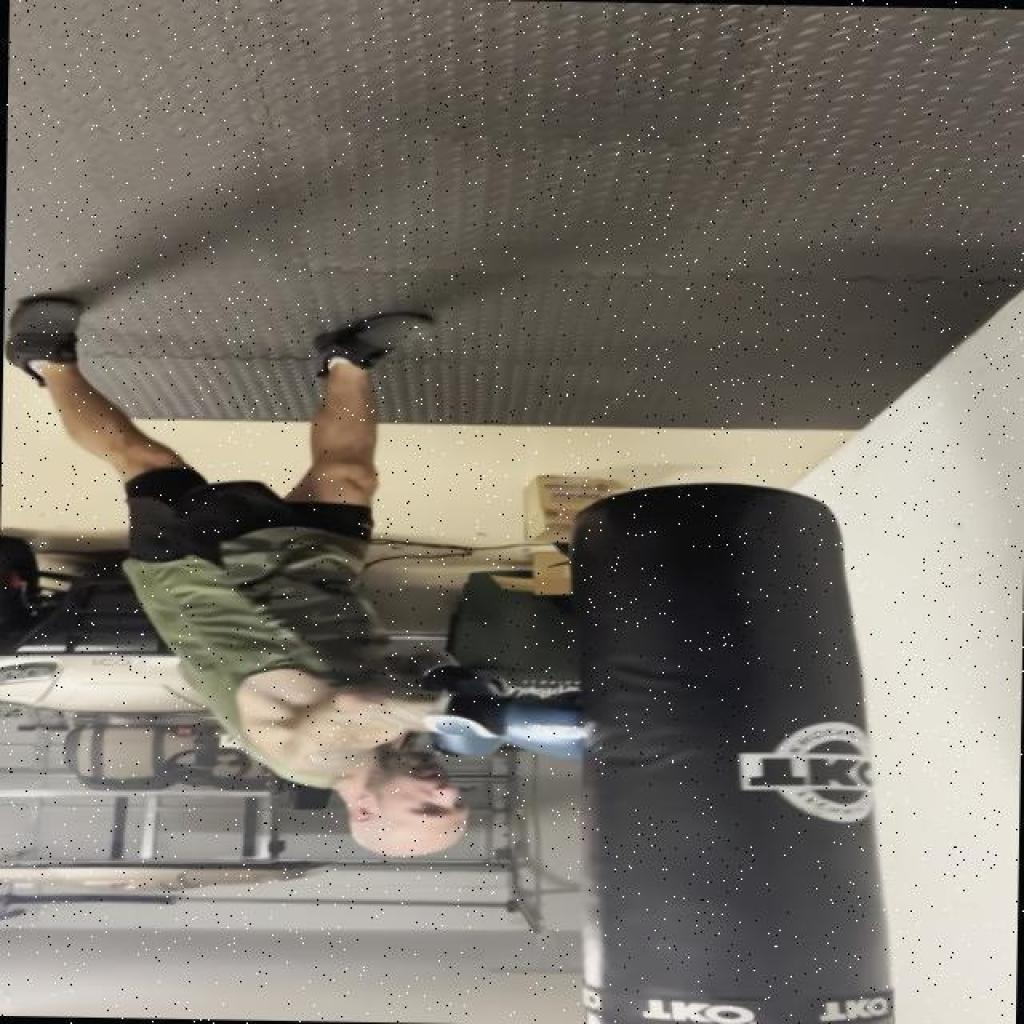bag: (579, 465, 891, 1024)
cross: (172, 627, 642, 885)
